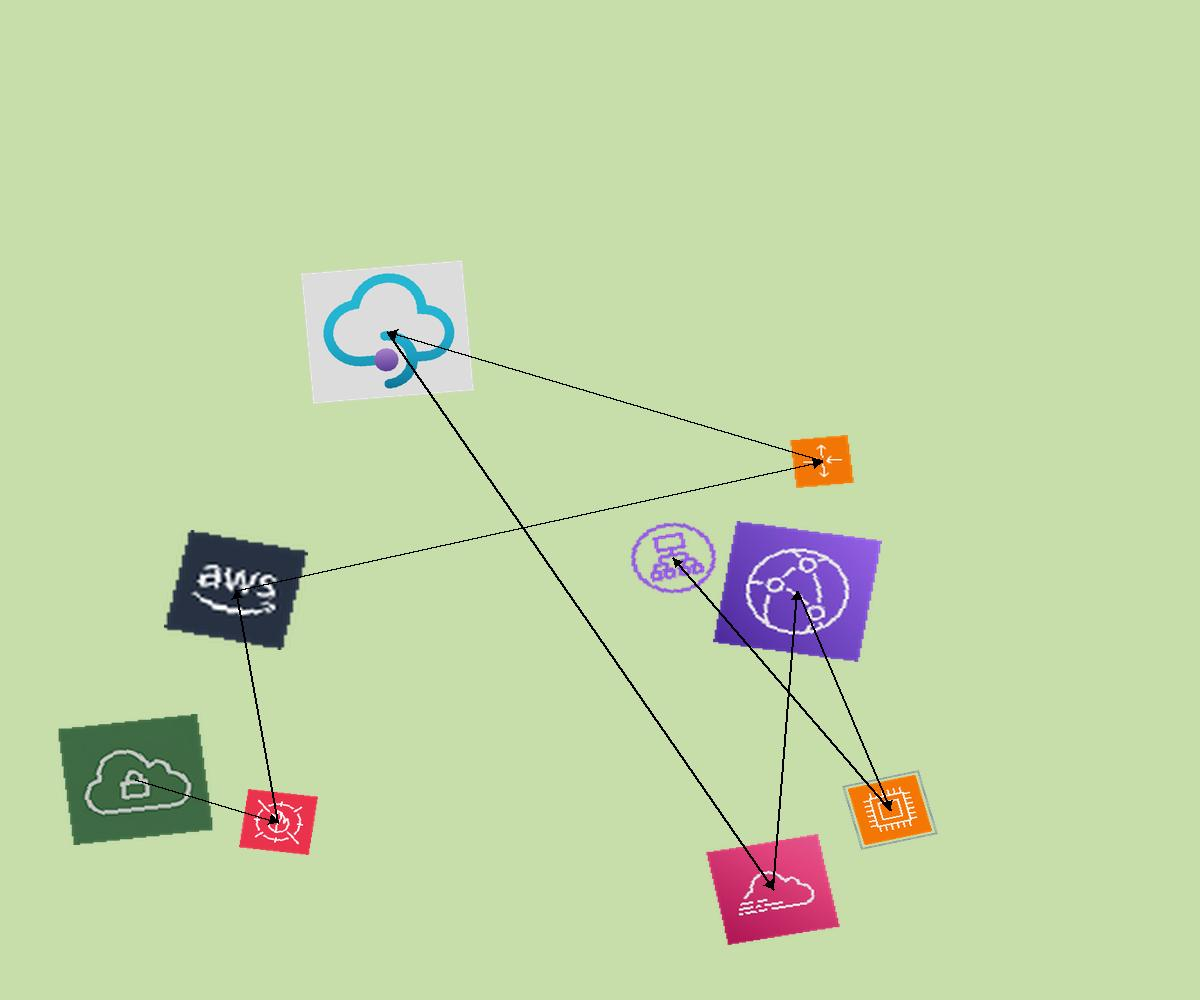AWS-Category_Compute: (842, 770, 938, 850)
AWS-Cloud-logo: (164, 530, 308, 650)
AWS-CloudFront: (713, 521, 882, 662)
AWS-CloudTrail: (705, 833, 841, 946)
AWS-Private_vpc: (57, 714, 214, 845)
AWS-Res_Elastic-Load-Balancing_Application-Load-Balancer: (618, 512, 729, 604)
AWS-Scaling-group: (789, 434, 855, 489)
AWS-WAF: (239, 789, 318, 855)
Azure_api_gateway: (301, 260, 474, 404)
